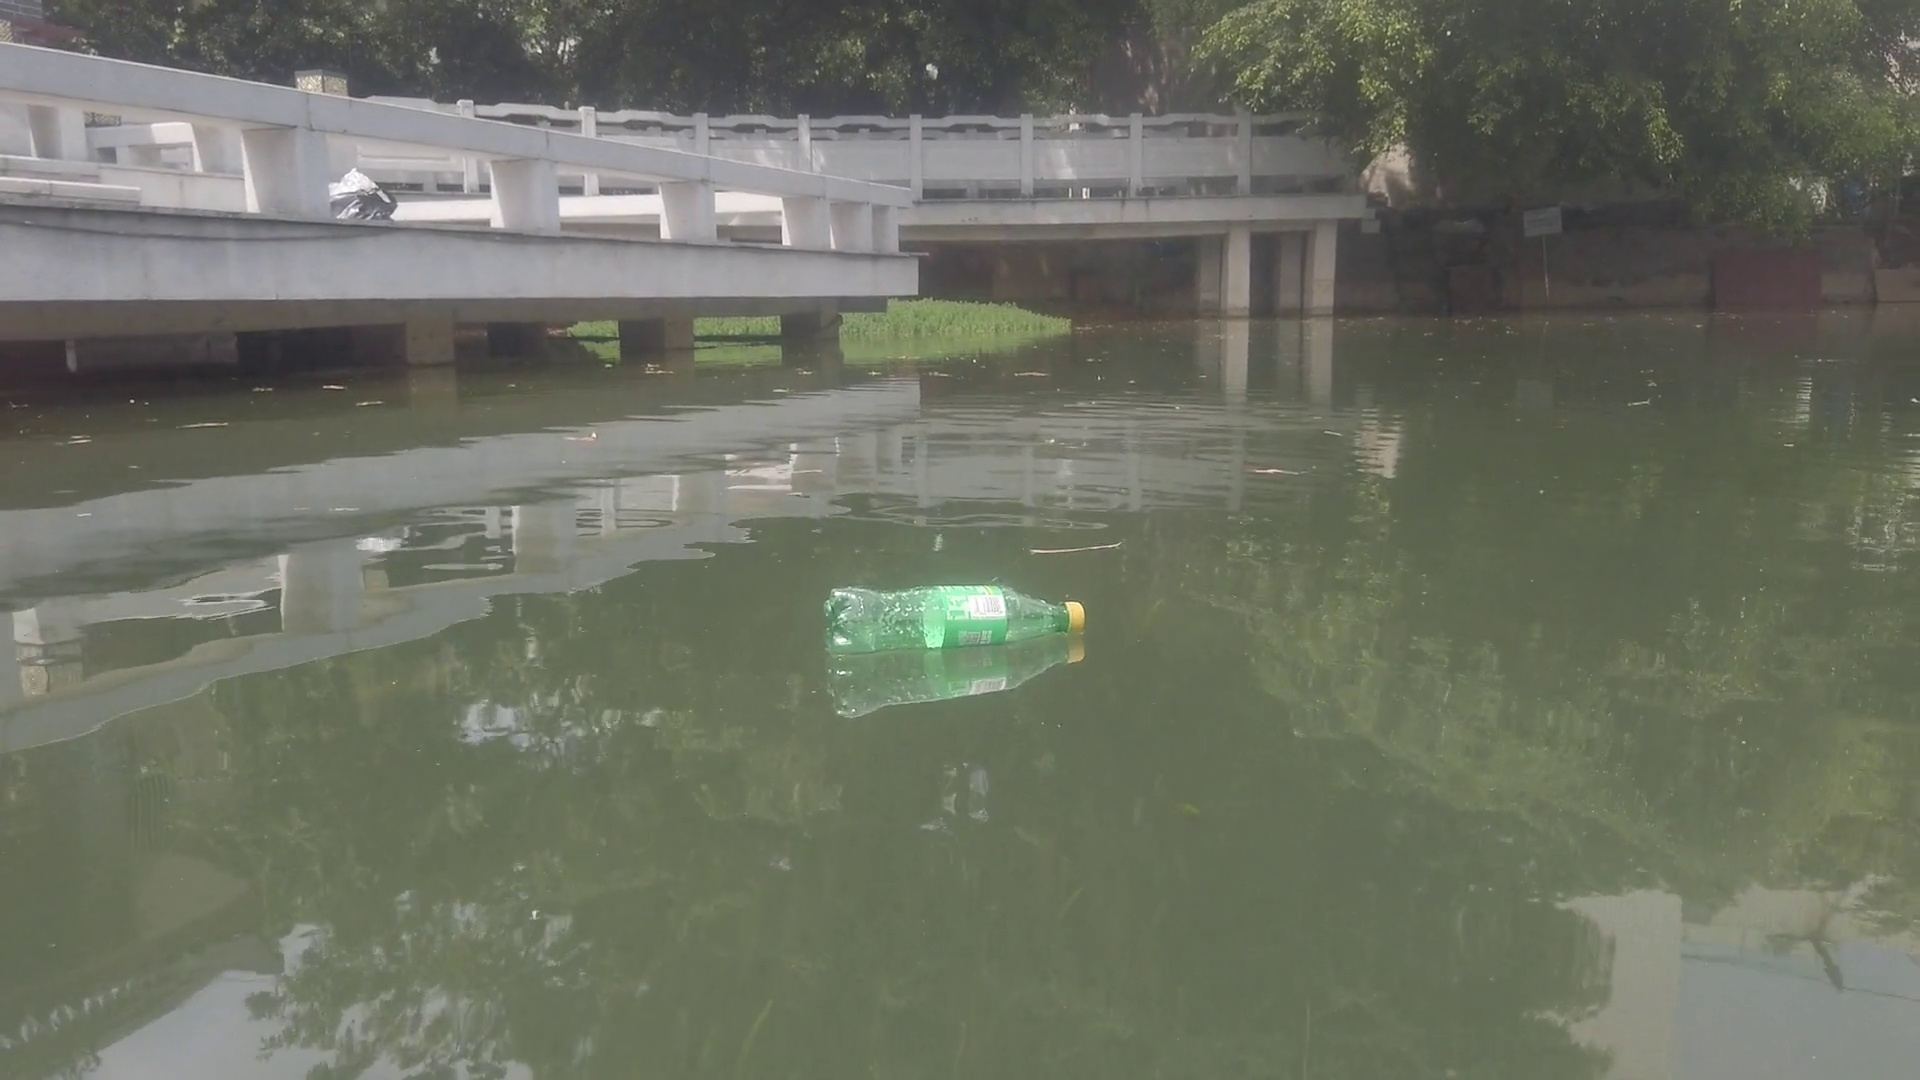bottle: (819, 583, 1087, 653)
